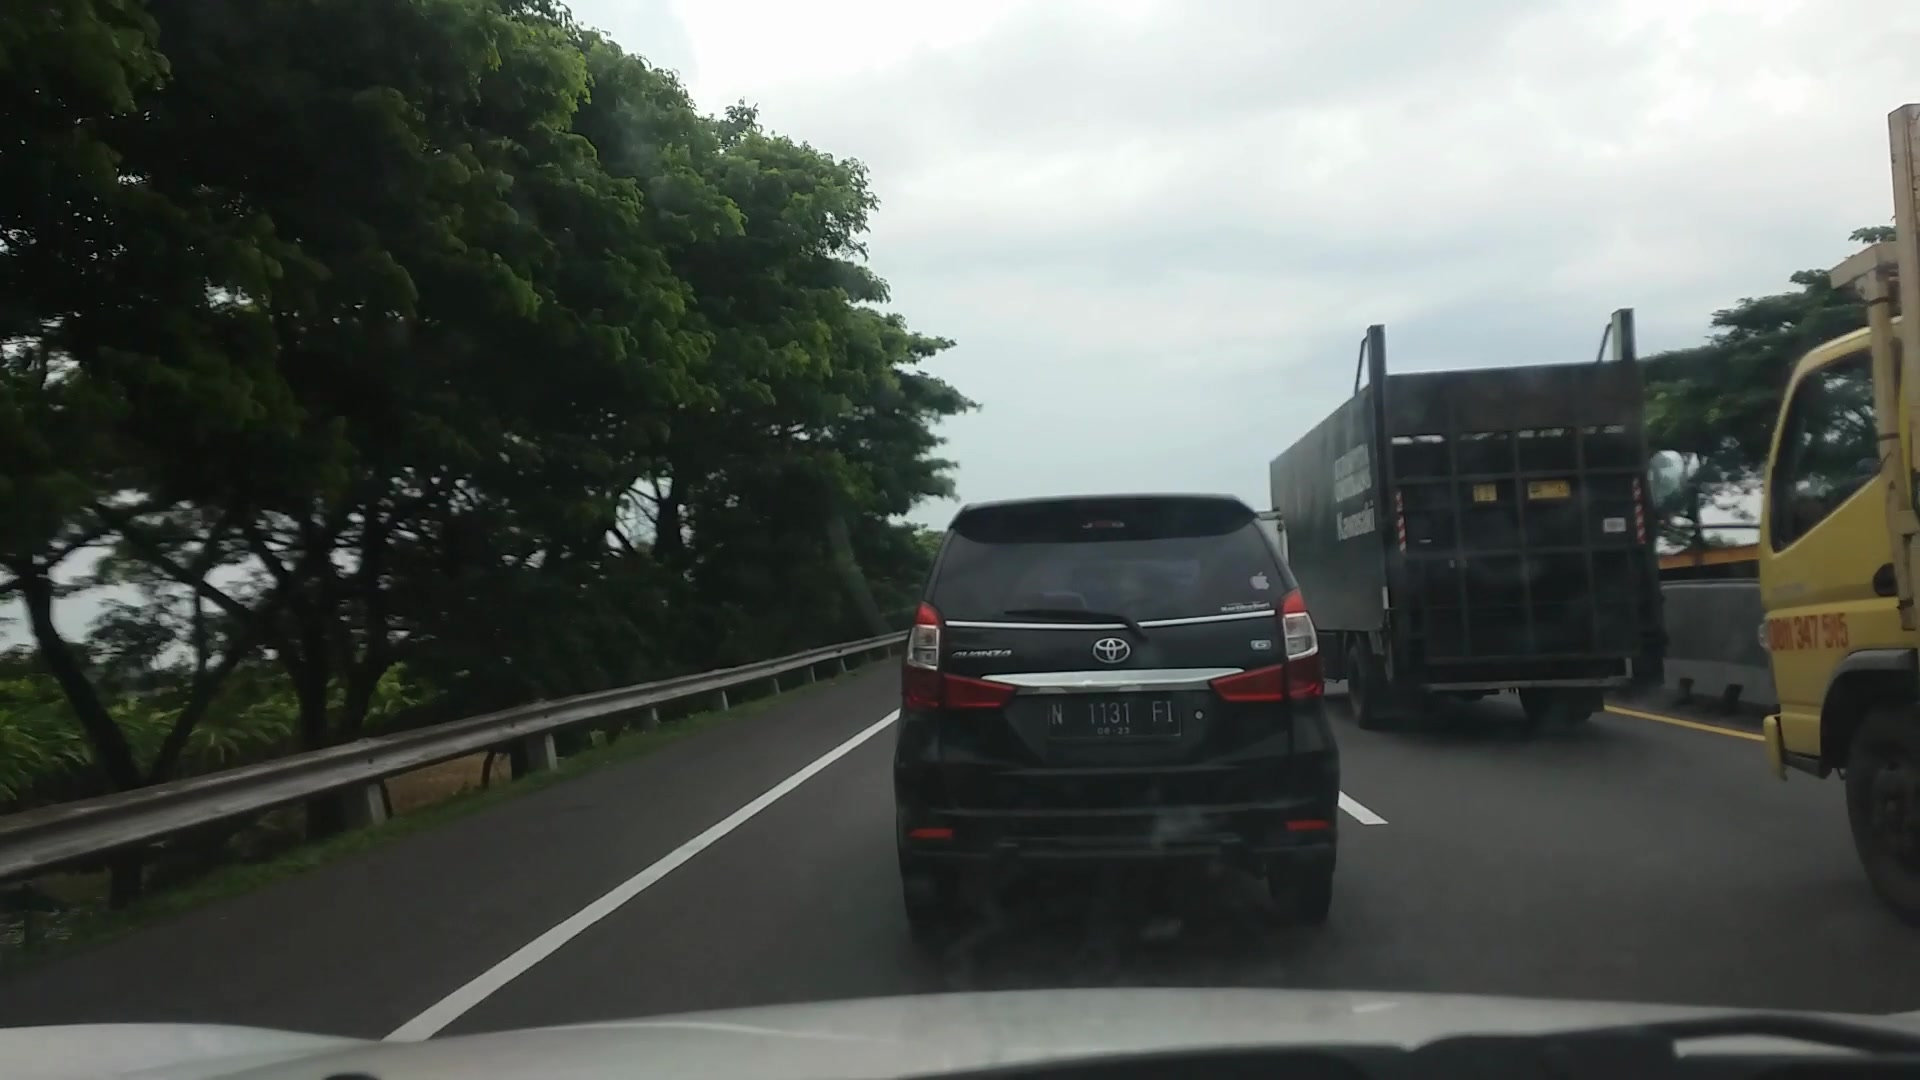plate_positive: (1047, 698, 1182, 737)
